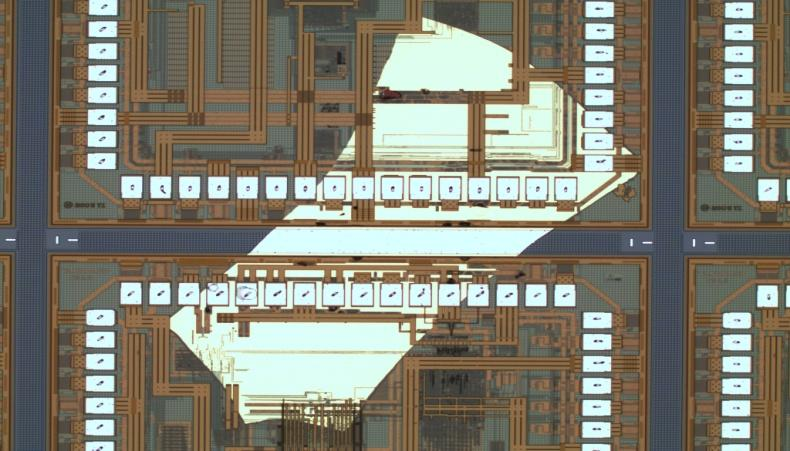COATING BAD: (163, 15, 644, 435)
